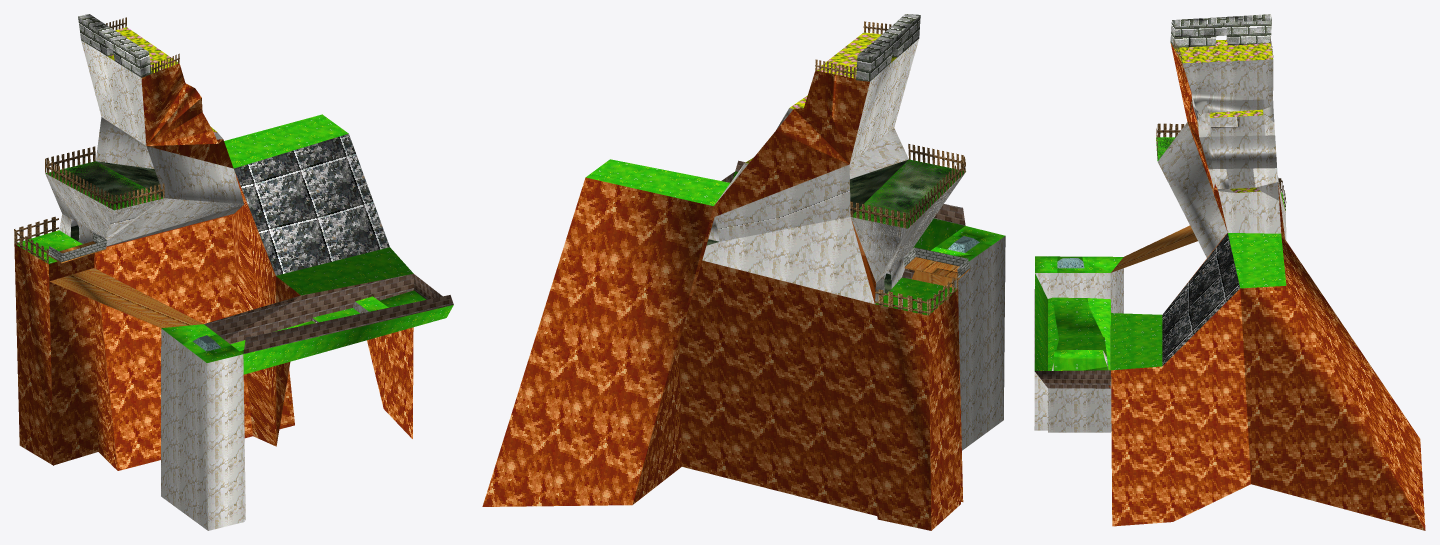
Rendered from BBCliff.fbx.
3 renders of one model, left to right at view 1: azimuth 30°, elevation 25°; view 2: azimuth 150°, elevation 25°; view 3: azimuth 270°, elevation 25°, orthographic. The views are drawn at different scales.
Parts seen in each view (by area): view 1: Level, Level_2; view 2: Level, Level_2; view 3: Level, Level_2.
Boxes of the visible parts, box(x1,y1,x2,y2) form: Level: box(14, 14, 453, 530); Level_2: box(14, 17, 453, 353); Level: box(482, 14, 1005, 530); Level_2: box(732, 22, 969, 315); Level: box(1034, 14, 1425, 530); Level_2: box(1034, 36, 1285, 388).
Size of the model in its own units: 5456 by 6668 by 5917.
